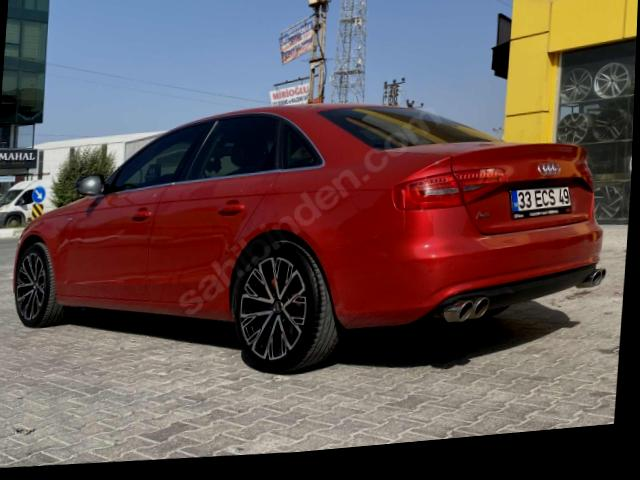plaka: (509, 186, 571, 219)
